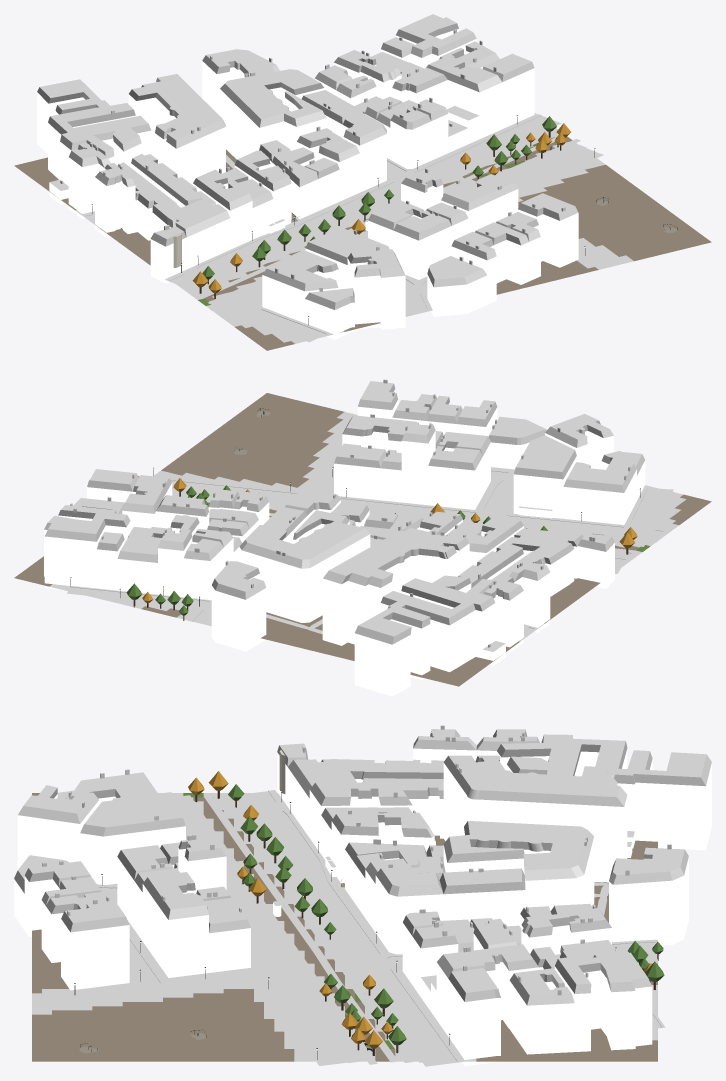
File: zone_E2.glb
3 renders of one model, top to bottom at view 1: azimuth 30°, elevation 25°; view 2: azimuth 150°, elevation 25°; view 3: azimuth 270°, elevation 25°, orthographic. The views are drawn at different scales.
Visible parts, largest first — view 1: zone_E2_batiments, zone_E2_terrain, zone_E2_sol_NOCOL, zone_E2_decor_NOCOL; view 2: zone_E2_batiments, zone_E2_terrain, zone_E2_sol_NOCOL, zone_E2_decor_NOCOL; view 3: zone_E2_batiments, zone_E2_terrain, zone_E2_sol_NOCOL, zone_E2_decor_NOCOL.
Part boxes in pixels (x1,y1,x2,y2): zone_E2_batiments: (37,14,578,339); zone_E2_terrain: (14,113,711,350); zone_E2_sol_NOCOL: (85,114,677,342); zone_E2_decor_NOCOL: (92,115,677,325); zone_E2_batiments: (44,379,645,696); zone_E2_terrain: (14,393,711,686); zone_E2_sol_NOCOL: (67,411,673,635); zone_E2_decor_NOCOL: (70,408,640,620); zone_E2_batiments: (14,725,711,1065); zone_E2_terrain: (32,793,657,1061); zone_E2_sol_NOCOL: (33,790,665,1066); zone_E2_decor_NOCOL: (74,771,664,1059).
Bounding box in the file's own units: 195 × 31.03 × 207.
